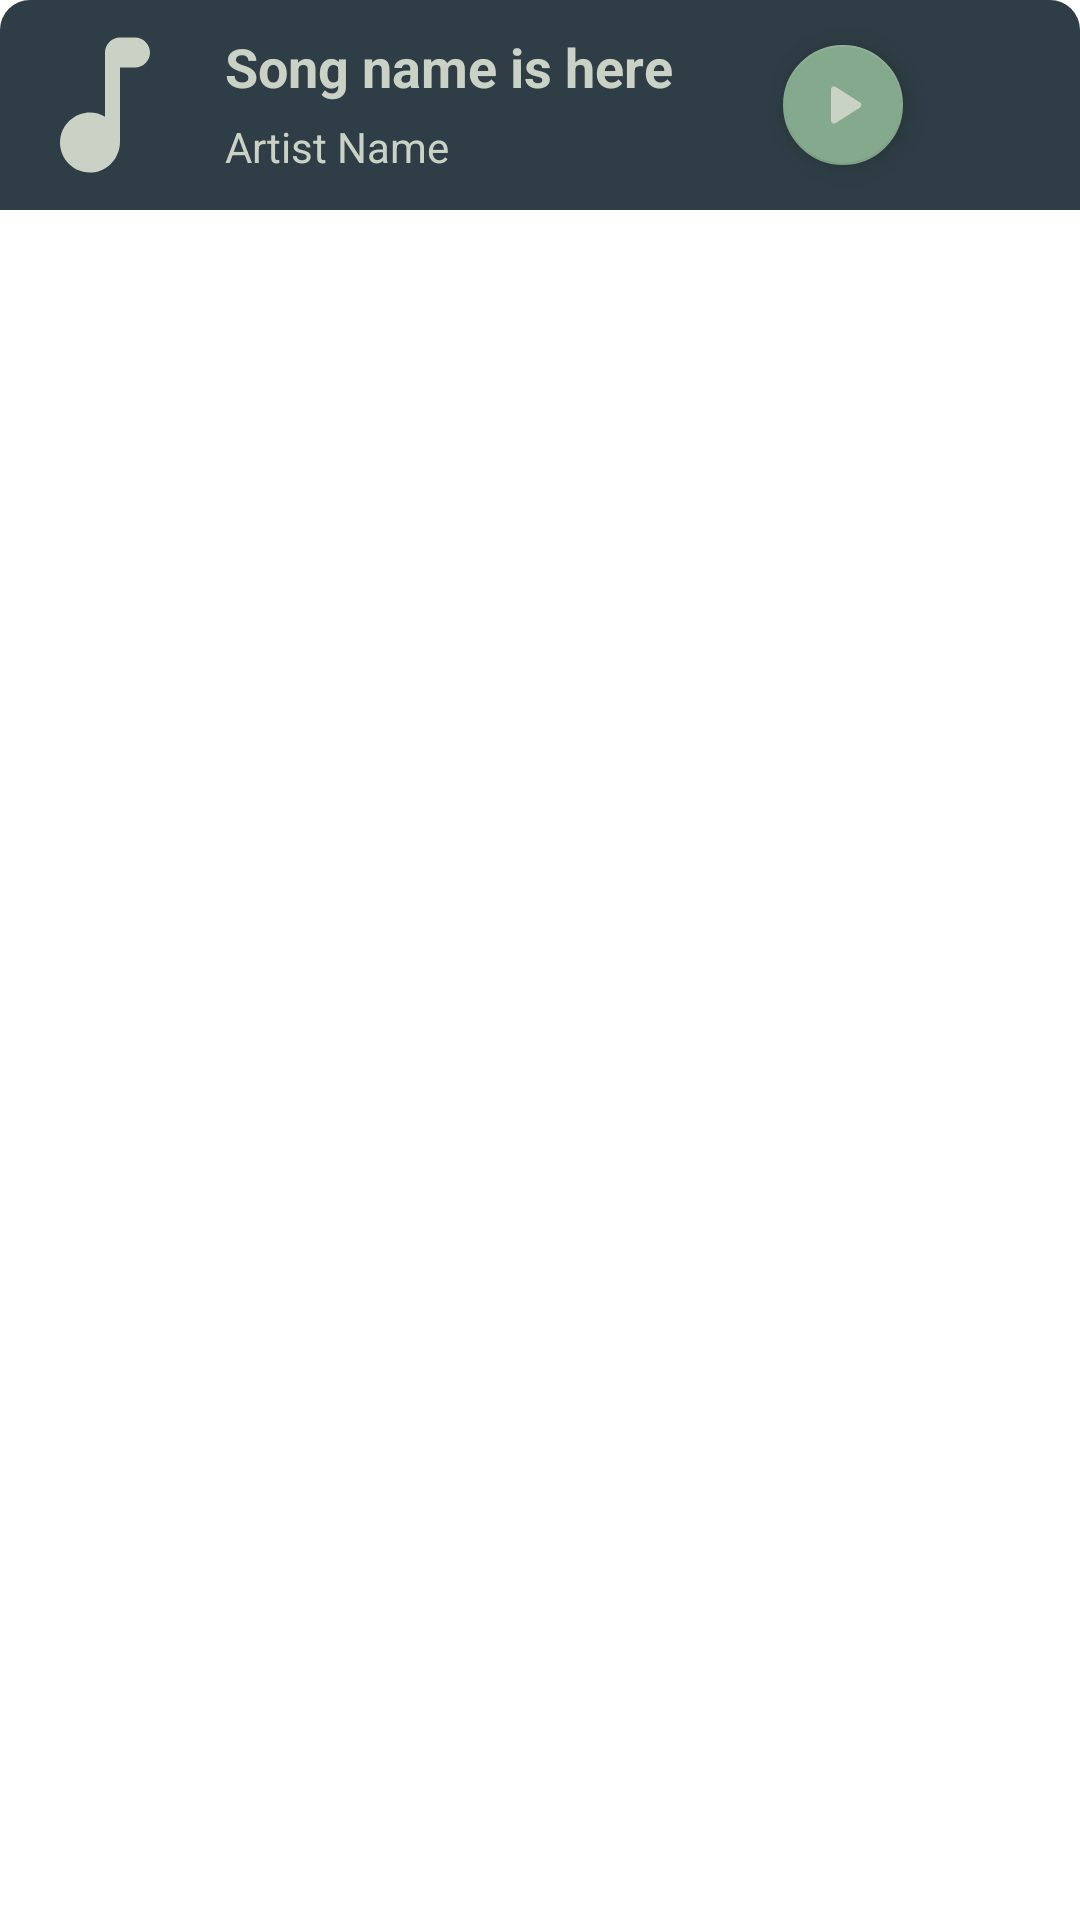

Screen size 1080*1920. Icon name, then its center in pixels as [x,y]:
music note: [105,105]
play arrow: [843,105]
